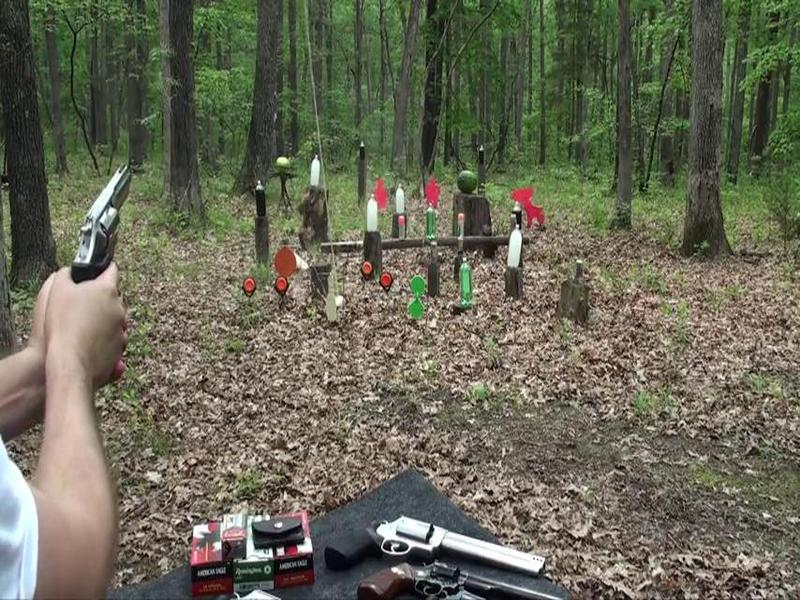Revolver: (67, 159, 147, 290)
